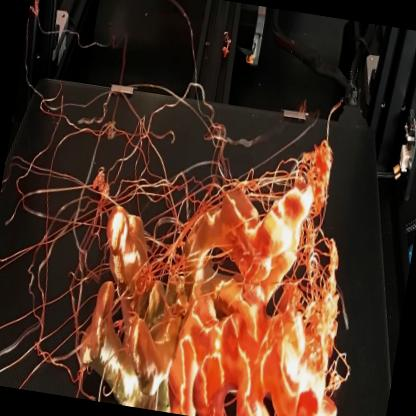fail: (12, 78, 239, 264), (1, 231, 100, 398), (290, 185, 355, 309), (231, 139, 303, 229)
